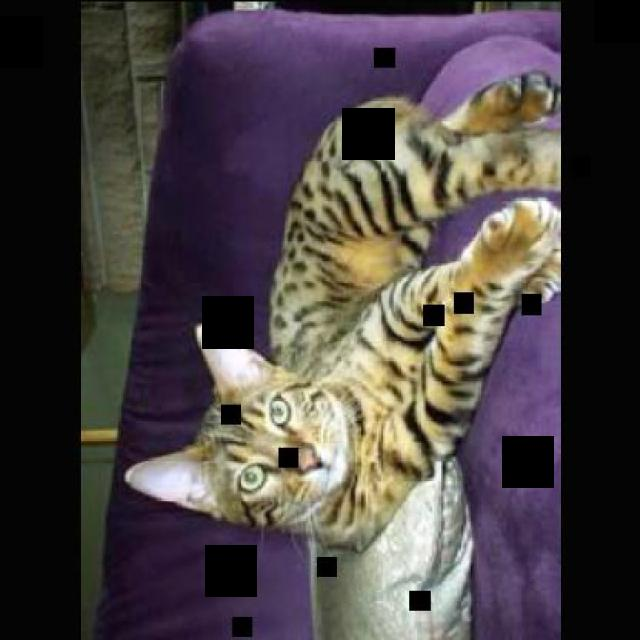unauthorized: (122, 68, 560, 554), (266, 68, 560, 378)
